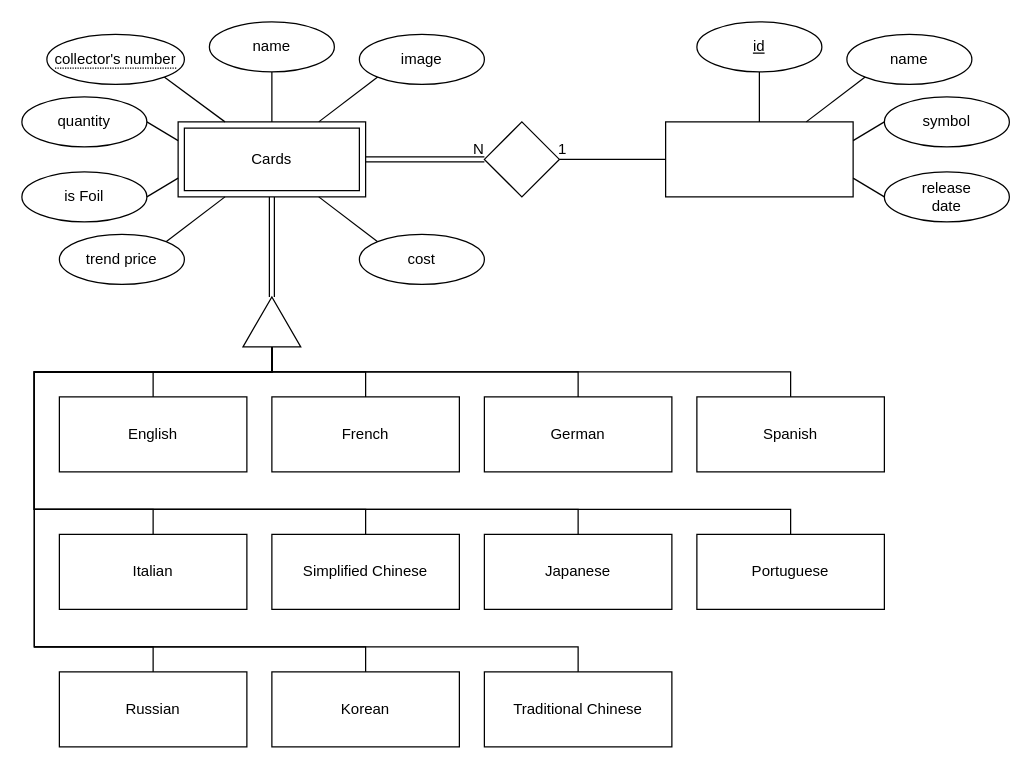
Some shapes in this 1031 by 769 pixel diagram are drawn without their labels. Each missing label, with the box of its shape:
belongs to >: (483, 121, 559, 197)
Set: (664, 121, 853, 197)
